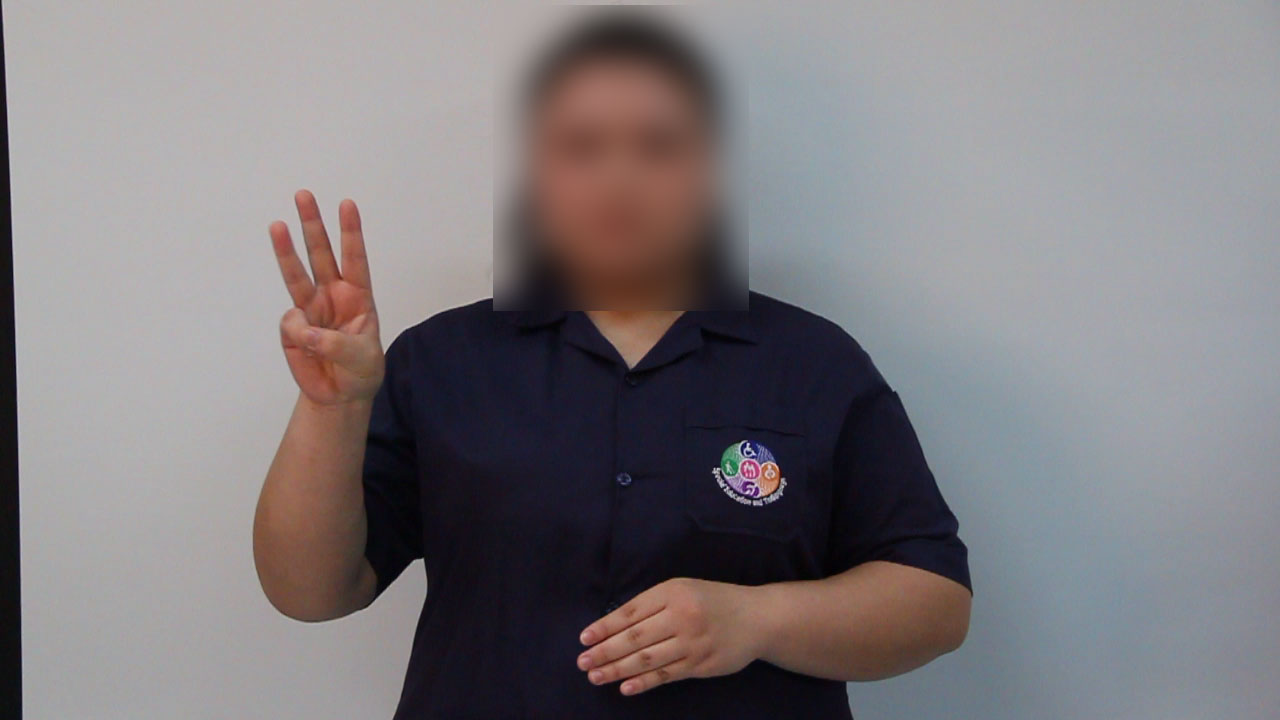wor: (255, 185, 392, 415)
